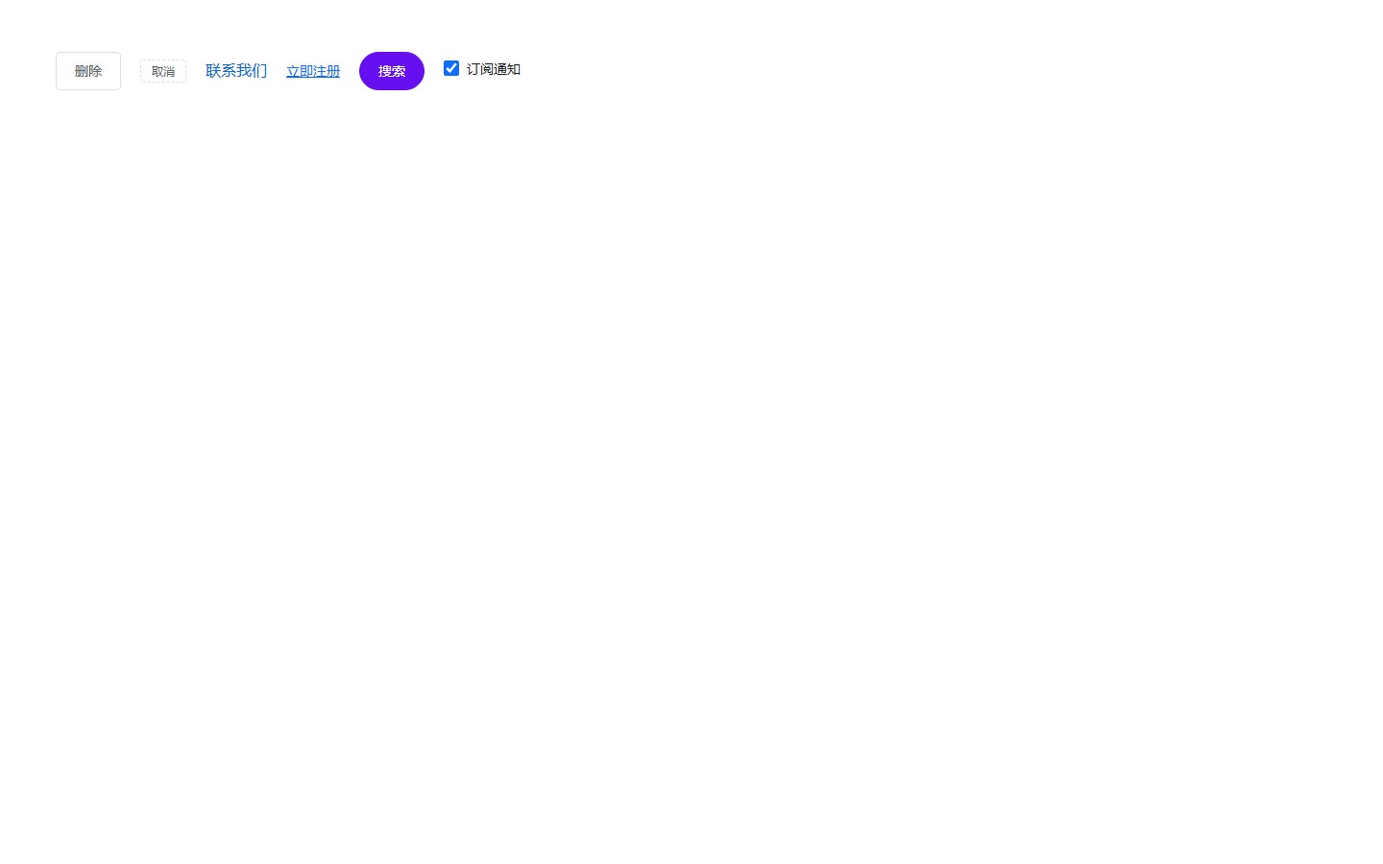button: (359, 52, 425, 90), (56, 52, 121, 90), (140, 60, 186, 83)
checkbox: (444, 60, 459, 76)
icon: (467, 59, 521, 77)
link: (206, 60, 267, 80), (286, 61, 340, 80)
radio: (444, 59, 521, 77)
